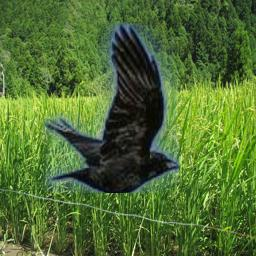Crow: (43, 23, 179, 193)
